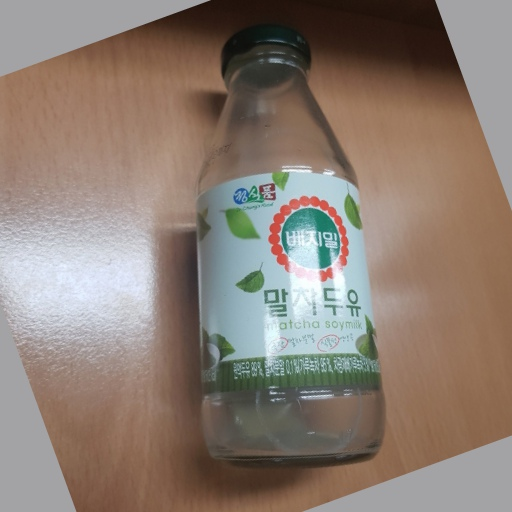Glass_4: (186, 27, 387, 462)
